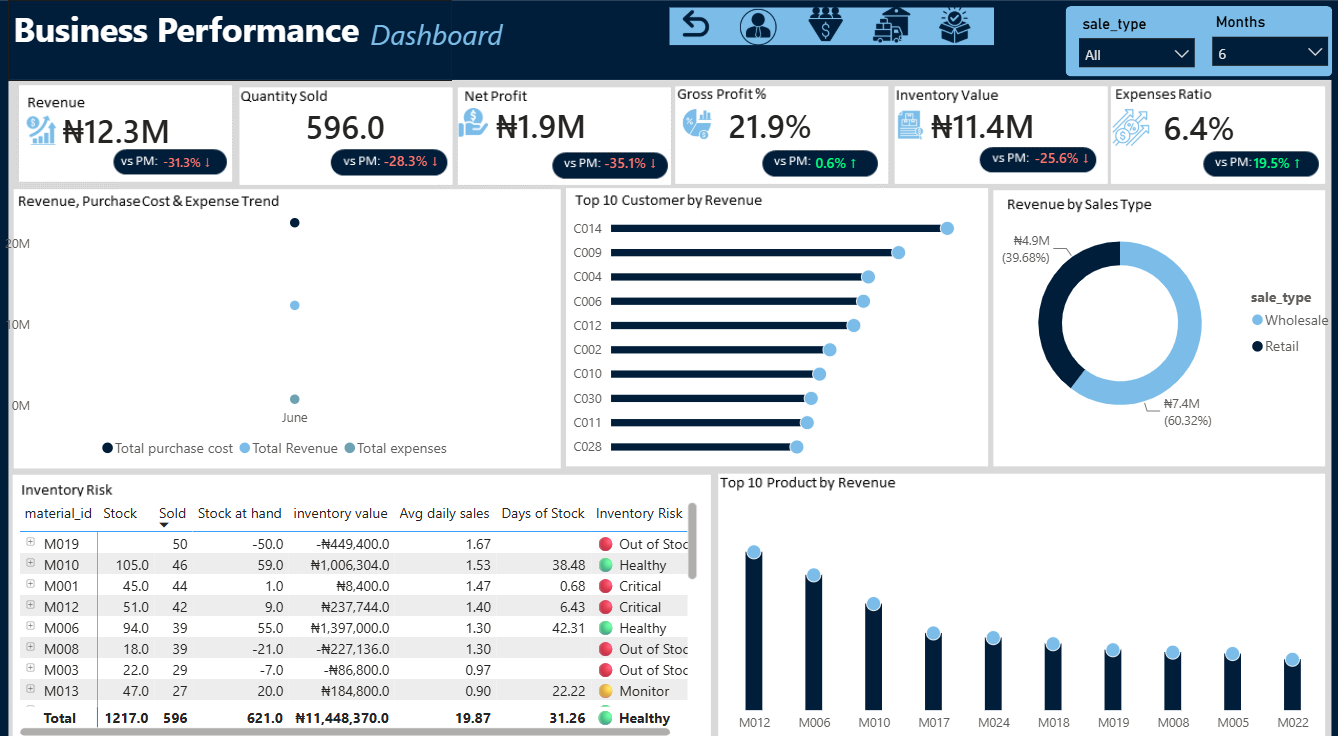

This screenshot's page, from the dashboard's own definition file:
{"tool":"powerbi","page":{"name":"Executive_dashboard (MOM)","canvas":[1280,720],"ordinal":1},"visuals":[{"type":"lineChart","fields":{"Y":["Measure.Total purchase cost","Measure.Total Revenue","Measure.Total expenses"],"Category":["Date.Date.Variation.Date Hierarchy.Month"]},"box":[0,177.9,528.6,266.8],"z":0},{"type":"donutChart","fields":{"Category":["sales_update.sale_type"],"Y":["Measure.Total Revenue"]},"box":[936.7,170,343.3,275],"z":1000},{"type":"barChart","fields":{"Category":["customers.customer_id"],"Y":["Measure.Total Revenue"]},"box":[538.4,191.9,395.3,252.1],"z":2000},{"type":"columnChart","fields":{"Category":["materials_corrected.material_id"],"Y":["Measure.Total Revenue"]},"box":[683.1,457.1,585.6,248.9],"z":3000},{"type":"cardVisual","fields":{"Data":["Measure.Total Revenue"]},"box":[30.9,87.8,187.1,71.6],"z":4000},{"type":"cardVisual","fields":{"Data":["Measure.Net Profit"]},"box":[444,76.4,165.9,81.3],"z":5000},{"type":"cardVisual","fields":{"Data":["Measure.Gross profit margin"]},"box":[665.3,76.4,170.8,81.3],"z":6000},{"type":"cardVisual","fields":{"Data":["Measure.Inventory Value 2"]},"box":[858.8,76.4,190.3,83],"z":7000},{"type":"cardVisual","fields":{"Data":["Measure.Expenses ratio"]},"box":[1080,81.3,148,76.4],"z":8000},{"type":"image","box":[26.3,110.4,29.8,28],"z":9000},{"type":"image","box":[426.2,102.5,52,27.7],"z":10000},{"type":"image","box":[649,102.5,32.5,30.9],"z":11000},{"type":"image","box":[850.7,104.1,35.8,30.9],"z":12000},{"type":"image","box":[1060.5,102.5,35.8,37.4],"z":13000},{"type":"cardVisual","fields":{"Data":["Measure.Profit growth arrow month"]},"box":[546.5,118.7,120.4,69.9],"z":14000},{"type":"cardVisual","fields":{"Data":["Measure.Gross profit growth arrow month"]},"box":[748.3,125,110,55],"z":15000},{"type":"cardVisual","fields":{"Data":["Measure.Inventory growth arrow MOM"]},"box":[956.7,113.3,120,71.7],"z":16000},{"type":"cardVisual","fields":{"Data":["Measure.Expense ratio growth arrow MOM"]},"box":[1166.1,125.2,113.9,55.3],"z":17000},{"type":"cardVisual","fields":{"Data":["Measure.Revenue growth arrow month"]},"box":[126.9,128.5,148,48.8],"z":18000},{"type":"pivotTable","fields":{"Rows":["materials_corrected.material_id","materials_corrected.size","materials_corrected.manufacturer"],"Values":["Measure.Inventory purchased","Measure.inventory sold","Measure.Stock at hand","Measure.inventory value","Measure.Avg daily sales","Measure.Days of Stock","Measure.Inventory Risk"]},"box":[14.6,473.3,655.5,234.2],"z":19000},{"type":"textbox","box":[8.1,0,422.9,76.4],"z":20000},{"type":"textbox","box":[348.3,8.3,165.9,68.3],"z":21000},{"type":"shape","box":[1015.7,5.7,254.3,67.1],"z":22000},{"type":"slicer","fields":{"Values":["sales_update.sale_type"]},"box":[1018.2,8.1,130.1,66.7],"z":23000},{"type":"shape","box":[639.2,6.5,309,35.8],"z":24000},{"type":"image","box":[686.4,6.5,74.8,37.4],"z":25000},{"type":"image","box":[749.8,4.9,74.8,37.4],"z":26000},{"type":"image","box":[813.3,4.9,74.8,37.4],"z":27000},{"type":"image","box":[873.5,4.9,74.8,37.4],"z":28000},{"type":"image","box":[621.3,4.9,84.6,35.8],"z":29000},{"type":"slicer","fields":{"Values":["Date.Month Number"]},"box":[1145.1,6.5,130.1,66.7],"z":30000},{"type":"cardVisual","fields":{"Data":["Measure.Quantity sold"]},"box":[263.5,78.1,165.9,81.3],"z":31000},{"type":"cardVisual","fields":{"Data":["Measure.Quantity sold growth arrow month"]},"box":[336.6,116,118.9,70.2],"z":32000}]}

Visuals, with their boxes in screenshot pixels (x1, y1, x2, y2), scaled from the page's 1280x720 canvas onto the 1338x736 screenshot:
lineChart - Measure.Total purchase cost x Measure.Total Revenue: [left=0, top=182, right=553, bottom=455]
donutChart - sales_update.sale_type x Measure.Total Revenue: [left=979, top=174, right=1337, bottom=455]
barChart - customers.customer_id x Measure.Total Revenue: [left=563, top=196, right=976, bottom=454]
columnChart - materials_corrected.material_id x Measure.Total Revenue: [left=714, top=467, right=1326, bottom=722]
cardVisual - Measure.Total Revenue: [left=32, top=90, right=228, bottom=163]
cardVisual - Measure.Net Profit: [left=464, top=78, right=638, bottom=161]
cardVisual - Measure.Gross profit margin: [left=695, top=78, right=874, bottom=161]
cardVisual - Measure.Inventory Value 2: [left=898, top=78, right=1097, bottom=163]
cardVisual - Measure.Expenses ratio: [left=1129, top=83, right=1284, bottom=161]
image: [left=27, top=113, right=59, bottom=141]
image: [left=446, top=105, right=500, bottom=133]
image: [left=678, top=105, right=712, bottom=136]
image: [left=889, top=106, right=927, bottom=138]
image: [left=1109, top=105, right=1146, bottom=143]
cardVisual - Measure.Profit growth arrow month: [left=571, top=121, right=697, bottom=193]
cardVisual - Measure.Gross profit growth arrow month: [left=782, top=128, right=897, bottom=184]
cardVisual - Measure.Inventory growth arrow MOM: [left=1000, top=116, right=1125, bottom=189]
cardVisual - Measure.Expense ratio growth arrow MOM: [left=1219, top=128, right=1337, bottom=185]
cardVisual - Measure.Revenue growth arrow month: [left=133, top=131, right=287, bottom=181]
pivotTable - materials_corrected.material_id x materials_corrected.size: [left=15, top=484, right=700, bottom=723]
textbox: [left=8, top=0, right=451, bottom=78]
textbox: [left=364, top=8, right=537, bottom=78]
shape: [left=1062, top=6, right=1328, bottom=74]
slicer - sales_update.sale_type: [left=1064, top=8, right=1200, bottom=76]
shape: [left=668, top=7, right=991, bottom=43]
image: [left=718, top=7, right=796, bottom=45]
image: [left=784, top=5, right=862, bottom=43]
image: [left=850, top=5, right=928, bottom=43]
image: [left=913, top=5, right=991, bottom=43]
image: [left=649, top=5, right=738, bottom=42]
slicer - Date.Month Number: [left=1197, top=7, right=1333, bottom=75]
cardVisual - Measure.Quantity sold: [left=275, top=80, right=449, bottom=163]
cardVisual - Measure.Quantity sold growth arrow month: [left=352, top=119, right=476, bottom=190]
